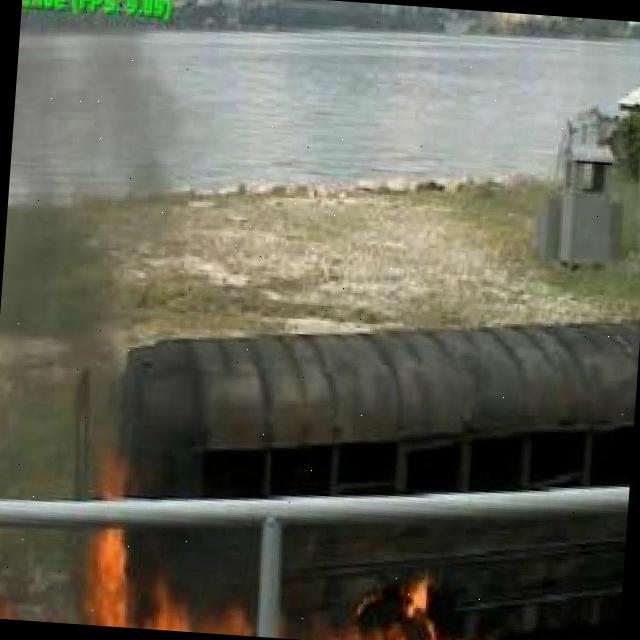fire: (82, 520, 232, 634), (331, 574, 485, 640)
